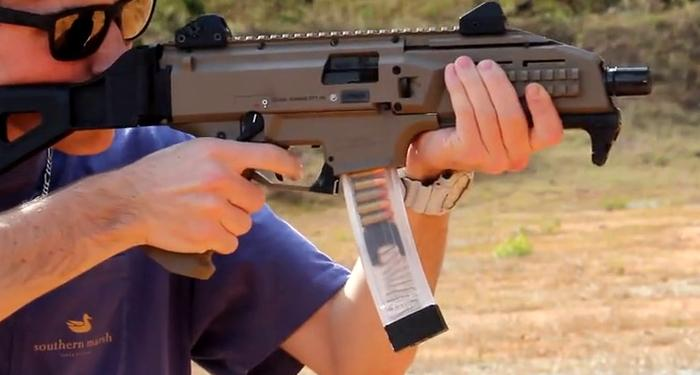gun: (1, 1, 700, 375)
